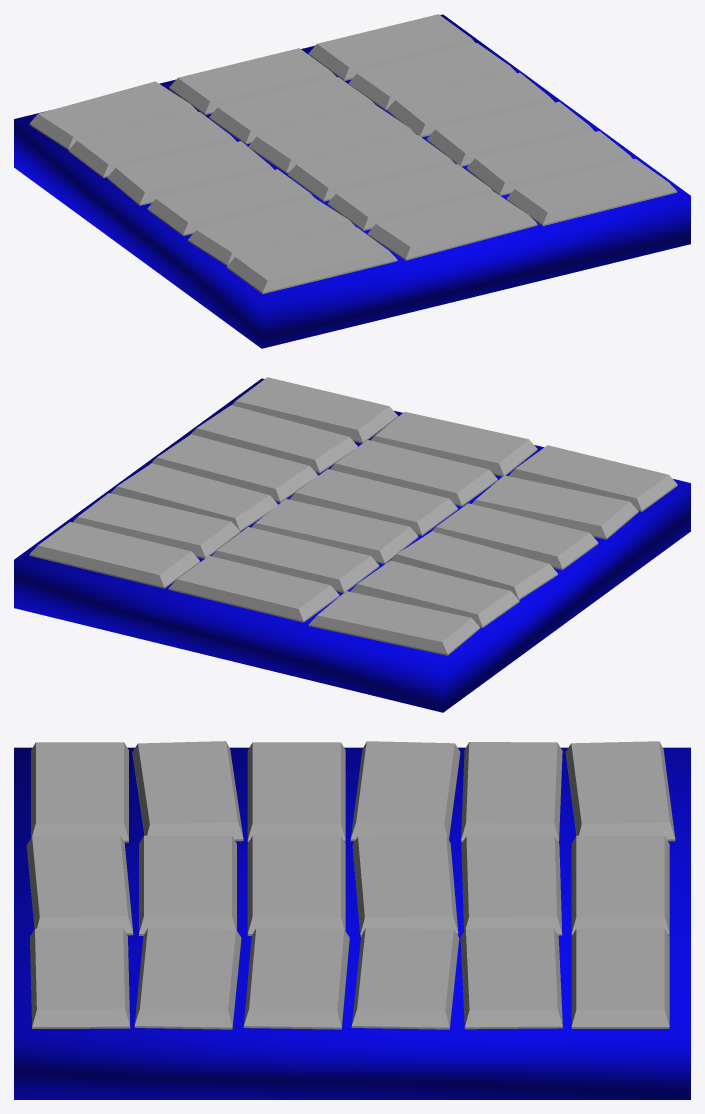
File: test_simp.fbx
3 renders of one model, top to bottom at view 1: azimuth 30°, elevation 25°; view 2: azimuth 150°, elevation 25°; view 3: azimuth 270°, elevation 25°, orthographic. The views are drawn at different scales.
Parts seen in each view (by area): view 1: tile_V1_2_low, pCube7, pCube6, pCube5, pCube11, pCube21, pCube22, pCube12, pCube14, pCube15, pCube20, pCube13 (+7 smaller); view 2: tile_V1_2_low, pCube20, pCube21, pCube22, pCube11, pCube9, pCube18, pCube13, pCube19, pCube8, pCube10, pCube12 (+7 smaller); view 3: tile_V1_2_low, pCube22, pCube13, pCube10, pCube16, pCube19, pCube5, pCube8, pCube14, pCube20, pCube11, pCube21 (+7 smaller).
Part boxes in pixels (x1=…): tile_V1_2_low: x1=14, y1=14, x2=690, y2=348; pCube7: x1=226, y1=227, x2=397, y2=294; pCube6: x1=367, y1=192, x2=537, y2=260; pCube5: x1=506, y1=158, x2=677, y2=225; pCube11: x1=147, y1=169, x2=314, y2=235; pCube21: x1=169, y1=48, x2=336, y2=114; pCube22: x1=308, y1=14, x2=475, y2=80; pCube12: x1=287, y1=135, x2=455, y2=201; pCube14: x1=107, y1=141, x2=273, y2=205; pCube15: x1=248, y1=105, x2=416, y2=173; pCube20: x1=29, y1=81, x2=197, y2=150; pCube13: x1=426, y1=101, x2=594, y2=166; tile_V1_2_low: x1=14, y1=378, x2=690, y2=712; pCube20: x1=308, y1=591, x2=480, y2=655; pCube21: x1=168, y1=556, x2=339, y2=622; pCube22: x1=29, y1=522, x2=200, y2=588; pCube11: x1=432, y1=503, x2=598, y2=570; pCube9: x1=330, y1=440, x2=497, y2=506; pCube18: x1=212, y1=527, x2=379, y2=592; pCube13: x1=151, y1=434, x2=318, y2=502; pCube19: x1=73, y1=493, x2=240, y2=558; pCube8: x1=472, y1=475, x2=638, y2=539; pCube10: x1=190, y1=405, x2=357, y2=473; pCube12: x1=289, y1=469, x2=457, y2=535; tile_V1_2_low: x1=14, y1=747, x2=690, y2=1099; pCube22: x1=571, y1=928, x2=669, y2=1028; pCube13: x1=243, y1=928, x2=349, y2=1029; pCube10: x1=134, y1=927, x2=241, y2=1029; pCube16: x1=351, y1=927, x2=459, y2=1029; pCube19: x1=460, y1=928, x2=562, y2=1029; pCube5: x1=30, y1=928, x2=130, y2=1028; pCube8: x1=132, y1=741, x2=243, y2=841; pCube14: x1=350, y1=741, x2=460, y2=841; pCube20: x1=565, y1=741, x2=675, y2=841; pCube11: x1=247, y1=742, x2=345, y2=842; pCube21: x1=571, y1=835, x2=669, y2=935.
Size of the model in its own units: 0.02 by 0.00263 by 0.02.
